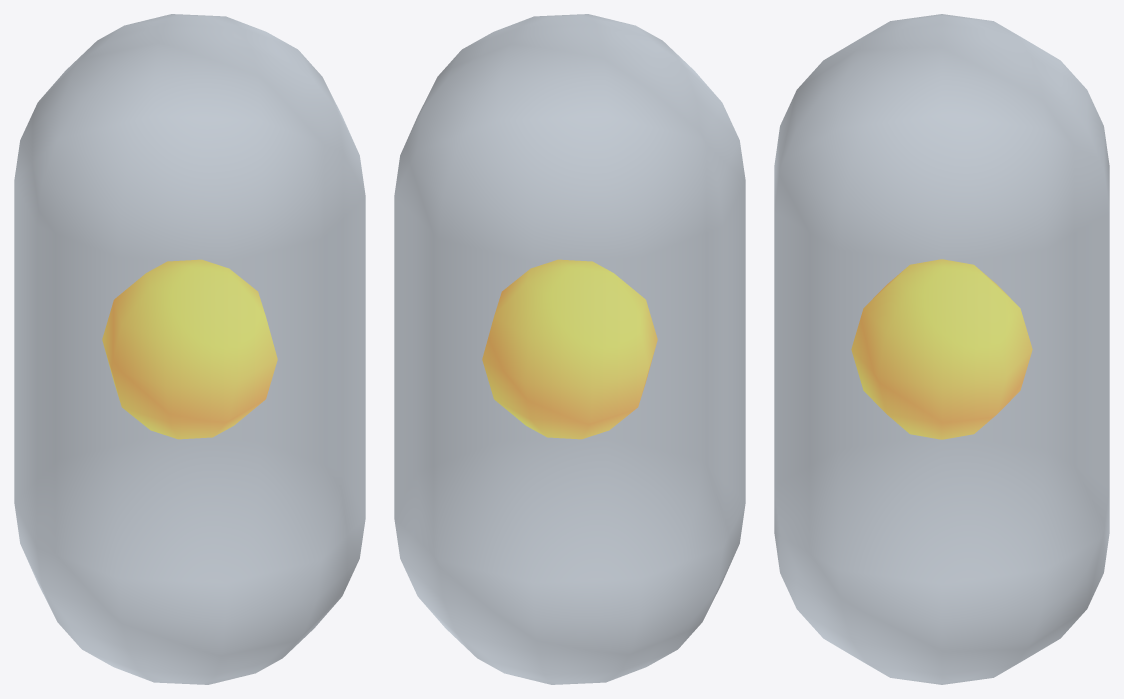
Rendered from fallback_grenade.glb.
3 views of the same model, side by side, from view 1: azimuth 30°, elevation 25°; view 2: azimuth 150°, elevation 25°; view 3: azimuth 270°, elevation 25° (orthographic).
Visible parts, largest first — view 1: fallback_grenade; view 2: fallback_grenade; view 3: fallback_grenade.
Part boxes in pixels (x1,y1,x2,y2): fallback_grenade: [14, 14, 365, 684]; fallback_grenade: [394, 14, 745, 684]; fallback_grenade: [774, 14, 1109, 684].
Size of the model in its own units: 0.07 by 0.14 by 0.0666.
